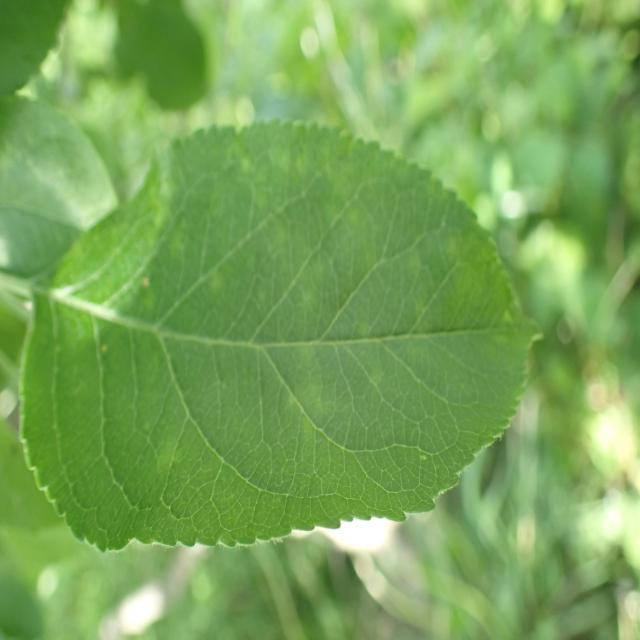scab: (136, 137, 497, 484)
